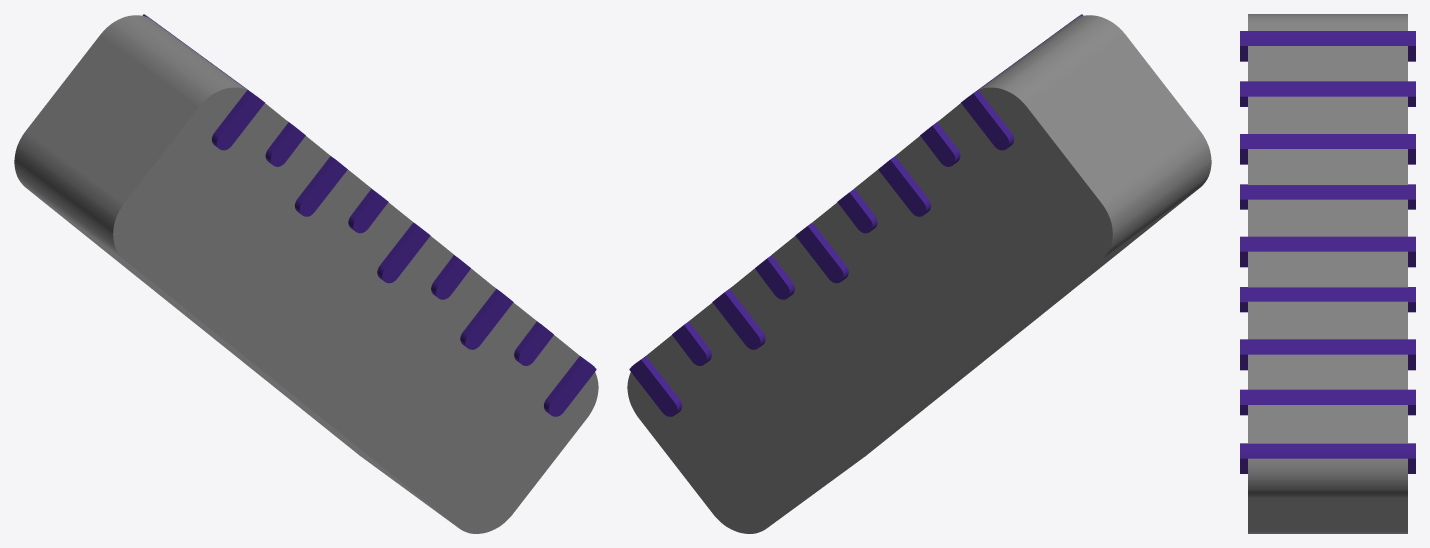
3 views of the same model, side by side, from view 1: azimuth 30°, elevation 25°; view 2: azimuth 150°, elevation 25°; view 3: azimuth 270°, elevation 25° (orthographic). The views are drawn at different scales.
Parts seen in each view (by area): view 1: U+1F4CF_layer00_obj00, U+1F4CF_layer01_obj00; view 2: U+1F4CF_layer00_obj00, U+1F4CF_layer01_obj00; view 3: U+1F4CF_layer00_obj00, U+1F4CF_layer01_obj00.
Part boxes in pixels (x1=…): U+1F4CF_layer00_obj00: x1=14, y1=15, x2=598, y2=533; U+1F4CF_layer01_obj00: x1=142, y1=14, x2=596, y2=416; U+1F4CF_layer00_obj00: x1=627, y1=15, x2=1211, y2=533; U+1F4CF_layer01_obj00: x1=629, y1=14, x2=1083, y2=416; U+1F4CF_layer00_obj00: x1=1248, y1=14, x2=1407, y2=533; U+1F4CF_layer01_obj00: x1=1240, y1=31, x2=1415, y2=473.
Bounding box in the file's own units: 0.5678 × 0.5674 × 0.22.
